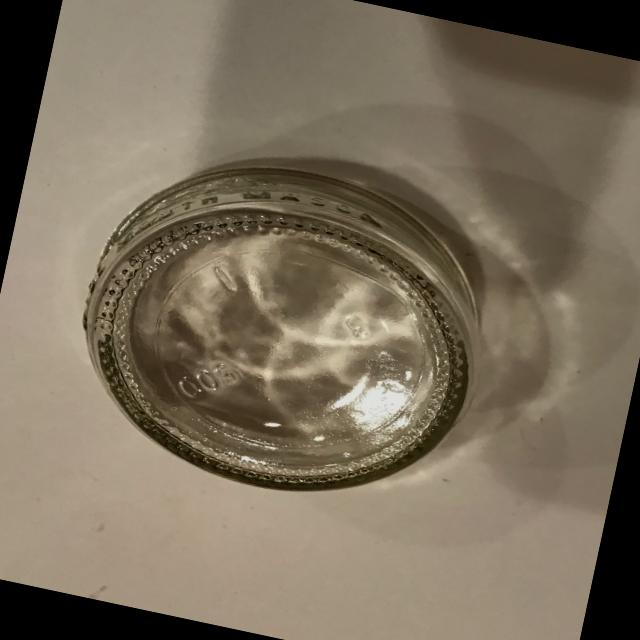Glass: (34, 102, 543, 545)
